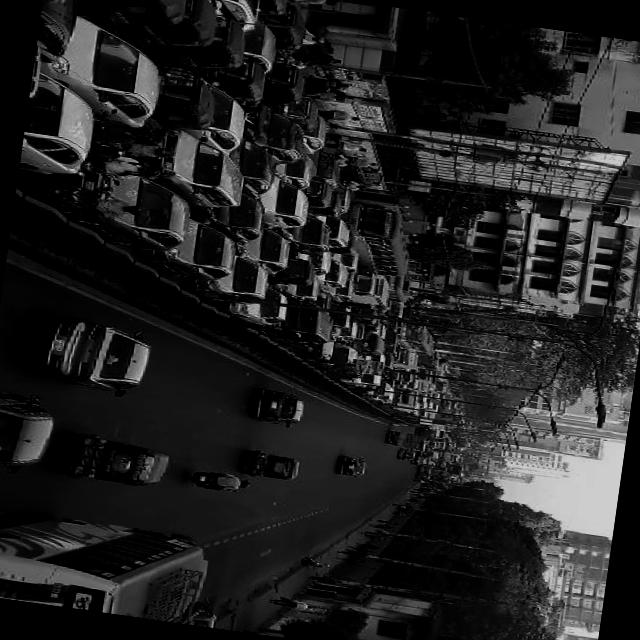bus: (0, 504, 212, 626), (344, 201, 420, 281), (392, 324, 438, 360), (382, 274, 413, 304), (433, 382, 451, 396)
car: (45, 13, 169, 133), (30, 312, 154, 401), (27, 74, 102, 180), (138, 205, 237, 285), (184, 78, 252, 160), (0, 391, 59, 480), (234, 100, 310, 169), (185, 248, 271, 306), (250, 172, 314, 234), (228, 224, 296, 280), (225, 280, 292, 332), (180, 0, 265, 35), (42, 0, 85, 67), (232, 141, 278, 201), (252, 387, 308, 430), (269, 268, 321, 305), (293, 110, 331, 157), (304, 148, 346, 190), (338, 457, 370, 479), (396, 376, 422, 392), (398, 451, 417, 464), (411, 455, 428, 467), (419, 451, 434, 460), (418, 400, 428, 410), (432, 404, 442, 414), (429, 442, 436, 451)
motorcycle: (60, 432, 173, 492), (27, 176, 154, 228), (116, 0, 220, 57), (162, 8, 247, 76), (182, 50, 270, 106), (153, 68, 223, 136), (75, 144, 164, 192), (69, 0, 191, 35), (86, 127, 182, 168), (262, 2, 308, 54), (88, 115, 157, 149), (262, 64, 308, 110), (274, 94, 322, 134), (239, 450, 299, 482), (186, 468, 250, 498), (268, 256, 314, 290), (302, 181, 332, 219), (348, 306, 378, 327), (340, 179, 366, 194), (416, 473, 431, 483), (419, 467, 432, 475)
truck: (138, 126, 255, 214), (255, 296, 340, 349), (298, 336, 359, 374), (348, 270, 393, 310), (310, 214, 350, 252), (316, 255, 352, 292), (347, 330, 388, 360), (374, 300, 406, 335), (384, 430, 428, 452), (336, 372, 384, 391), (383, 388, 418, 410), (360, 378, 392, 401), (391, 348, 420, 371), (412, 407, 437, 421), (417, 428, 438, 442), (432, 466, 440, 477)
